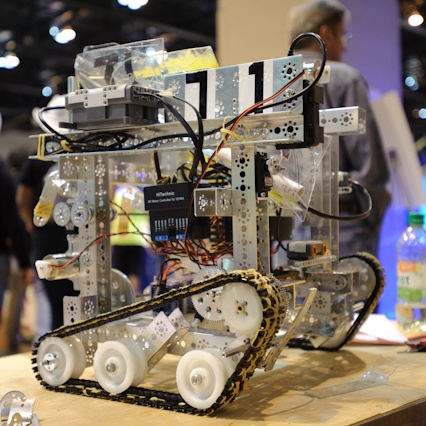robot: (21, 35, 397, 415)
